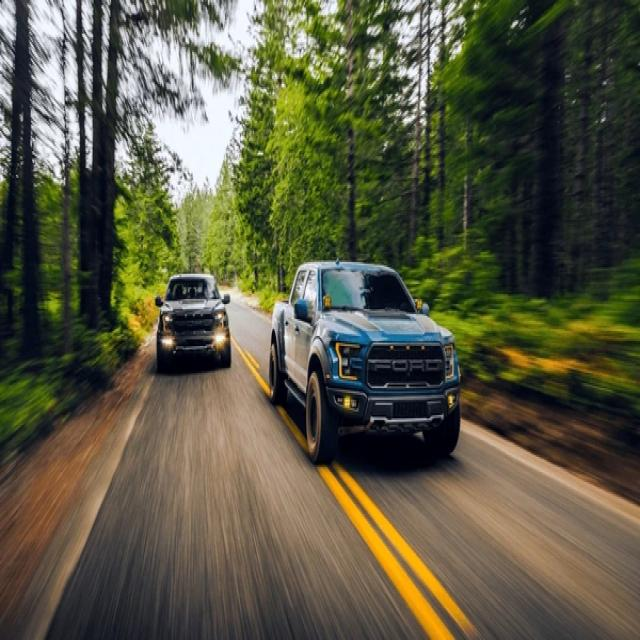ford: (364, 354, 442, 378)
